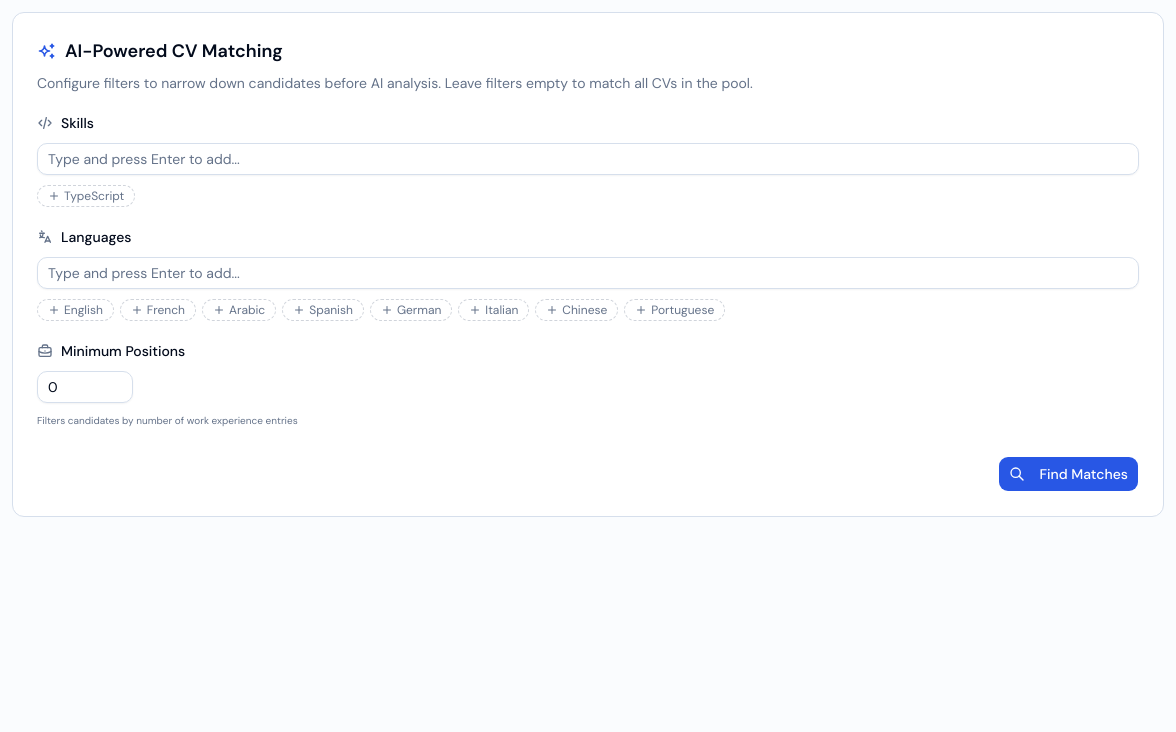
Test: InlineCvMatching progressive results › keeps ranked results usable while AI recommendations load
Click the button "Find Matches".
click(1069, 474)  # box [998,456,1139,492]
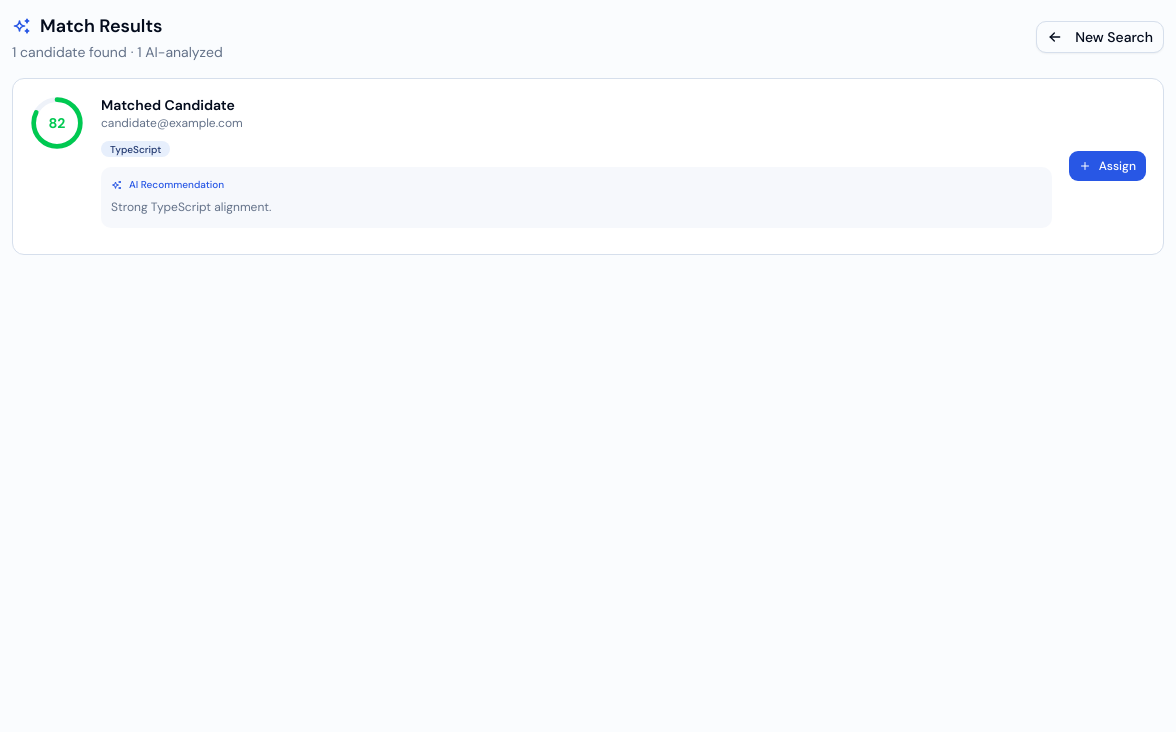
Now the button "Assign" is enabled, box [1068,150,1147,182]
Now the text "· 1 AI-analyzed" is shown, box [131,43,223,61]
